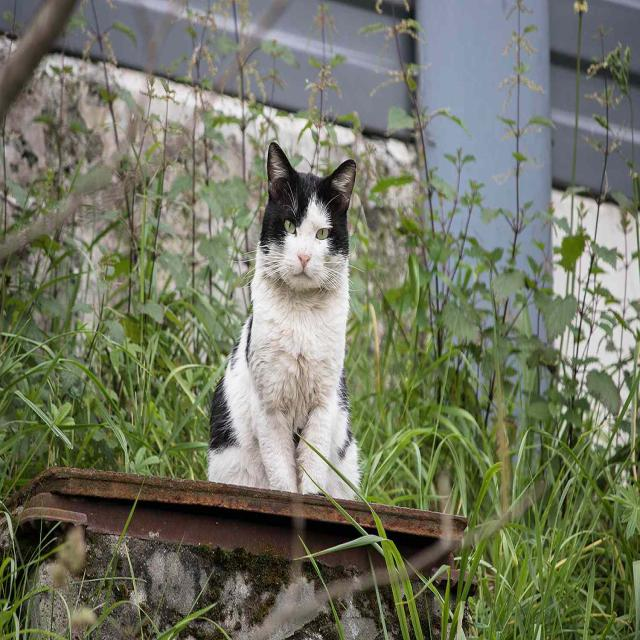cat: (209, 142, 359, 498)
